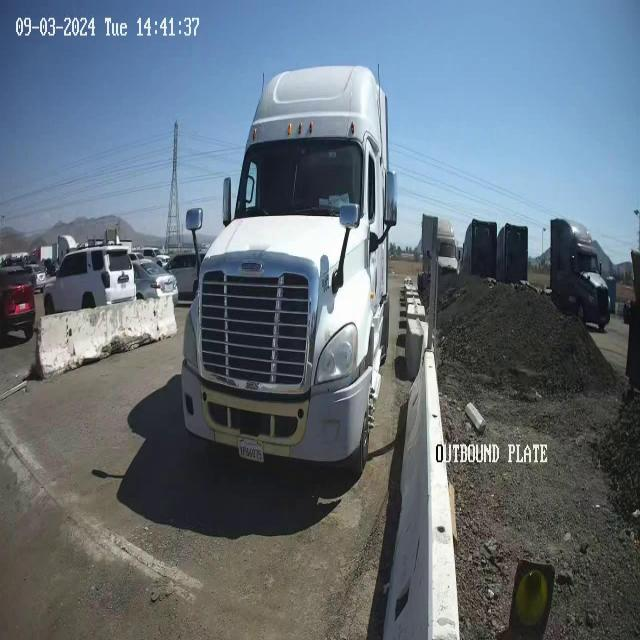TRUCK_OUT: (180, 62, 398, 478)
